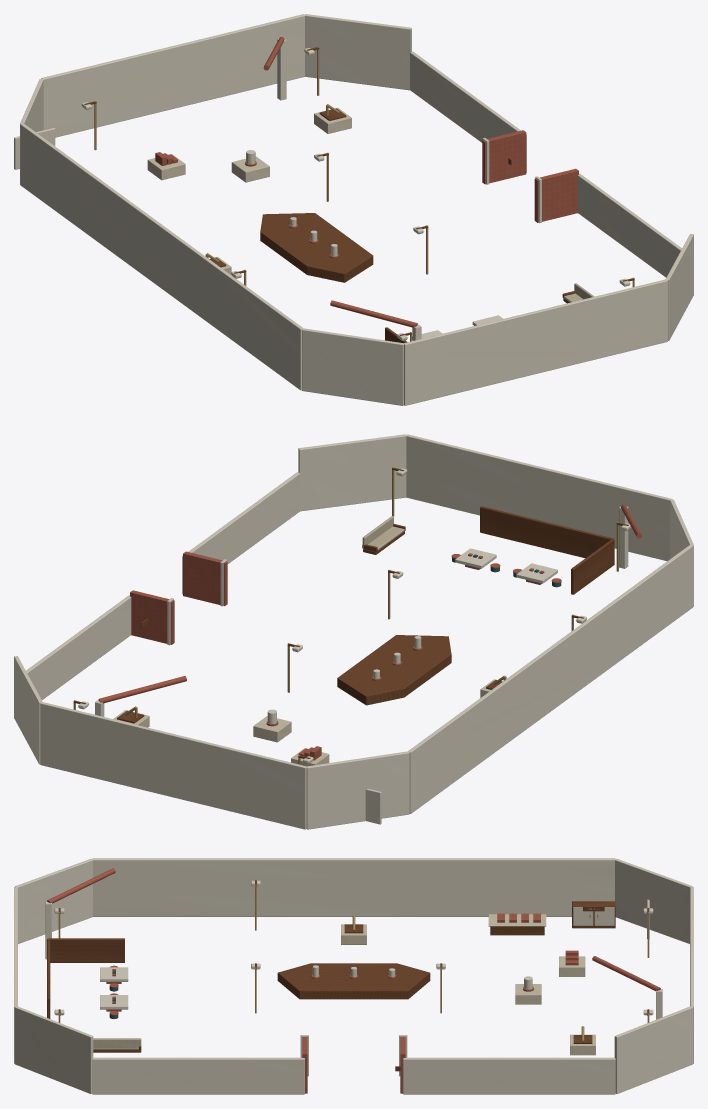
Rendered from D09_directory_05_current_counterpart_r002.glb.
3 views of the same model, one above another, from view 1: azimuth 30°, elevation 25°; view 2: azimuth 150°, elevation 25°; view 3: azimuth 270°, elevation 25° (orthographic). The views are drawn at different scales.
Parts seen in each view (by area): view 1: D09_directory_05__gallery_shell3, D09_directory_05__gallery_shell5, D09_directory_05__gallery_shell1, D09_directory_05__gallery_shell0, D09_directory_05__gallery_shell4, D09_directory_05__spine_base, D09_directory_05__entry_a, D09_directory_05__entry_b, D09_directory_05__threshold-4.5, D09_directory_05__threshold4.5, D09_directory_05__gallery_shell6, D09_directory_05__gallery_shell2 (+1 smaller); view 2: D09_directory_05__gallery_shell3, D09_directory_05__gallery_shell1, D09_directory_05__gallery_shell5, D09_directory_05__gallery_shell6, D09_directory_05__gallery_shell2, D09_directory_05__spine_base, D09_directory_05__entry_b, D09_directory_05__entry_a, D09_directory_05__junior_back, D09_directory_05__threshold4.5, D09_directory_05__threshold-4.5, D09_directory_05__gallery_shell0 (+3 smaller); view 3: D09_directory_05__gallery_shell3, D09_directory_05__entry_a, D09_directory_05__entry_b, D09_directory_05__gallery_shell0, D09_directory_05__gallery_shell6, D09_directory_05__spine_base, D09_directory_05__gallery_shell2, D09_directory_05__gallery_shell4, D09_directory_05__junior_return, D09_directory_05__wrapping_base, D09_directory_05__wrapping_top, D09_directory_05__gallery_shell1 (+11 smaller).
Part boxes in pixels (x1,y1,x2,y2): D09_directory_05__gallery_shell3: (20, 123, 303, 390); D09_directory_05__gallery_shell5: (404, 279, 667, 405); D09_directory_05__gallery_shell1: (41, 14, 304, 137); D09_directory_05__gallery_shell0: (305, 14, 411, 90); D09_directory_05__gallery_shell4: (302, 328, 403, 405); D09_directory_05__spine_base: (260, 213, 373, 282); D09_directory_05__entry_a: (577, 173, 681, 277); D09_directory_05__entry_b: (410, 51, 526, 172); D09_directory_05__threshold-4.5: (482, 130, 526, 184); D09_directory_05__threshold4.5: (534, 168, 578, 222); D09_directory_05__gallery_shell6: (666, 234, 693, 340); D09_directory_05__gallery_shell2: (20, 79, 43, 184); D09_directory_05__gallery_shell3: (408, 544, 693, 813); D09_directory_05__gallery_shell1: (40, 702, 306, 829); D09_directory_05__gallery_shell5: (406, 434, 672, 561); D09_directory_05__gallery_shell6: (298, 434, 406, 511); D09_directory_05__gallery_shell2: (306, 751, 409, 829); D09_directory_05__spine_base: (337, 635, 451, 705); D09_directory_05__entry_b: (26, 595, 131, 699); D09_directory_05__entry_a: (182, 472, 300, 594); D09_directory_05__junior_back: (480, 506, 613, 558); D09_directory_05__threshold4.5: (183, 551, 227, 606); D09_directory_05__threshold-4.5: (130, 590, 174, 644); D09_directory_05__gallery_shell0: (14, 656, 42, 764); D09_directory_05__gallery_shell3: (92, 858, 615, 916); D09_directory_05__entry_a: (92, 1057, 304, 1094); D09_directory_05__entry_b: (403, 1057, 615, 1094); D09_directory_05__gallery_shell0: (614, 1006, 693, 1093); D09_directory_05__gallery_shell6: (14, 1006, 93, 1093); D09_directory_05__spine_base: (277, 963, 430, 999); D09_directory_05__gallery_shell2: (615, 859, 692, 943); D09_directory_05__gallery_shell4: (15, 859, 92, 943); D09_directory_05__junior_return: (48, 938, 124, 962); D09_directory_05__wrapping_base: (490, 926, 544, 935); D09_directory_05__wrapping_top: (488, 914, 546, 926); D09_directory_05__gallery_shell1: (690, 887, 693, 1063).
Bounding box in the file's own units: 38.86 × 6.74 × 62.36.
7 materials, 7 textured.
